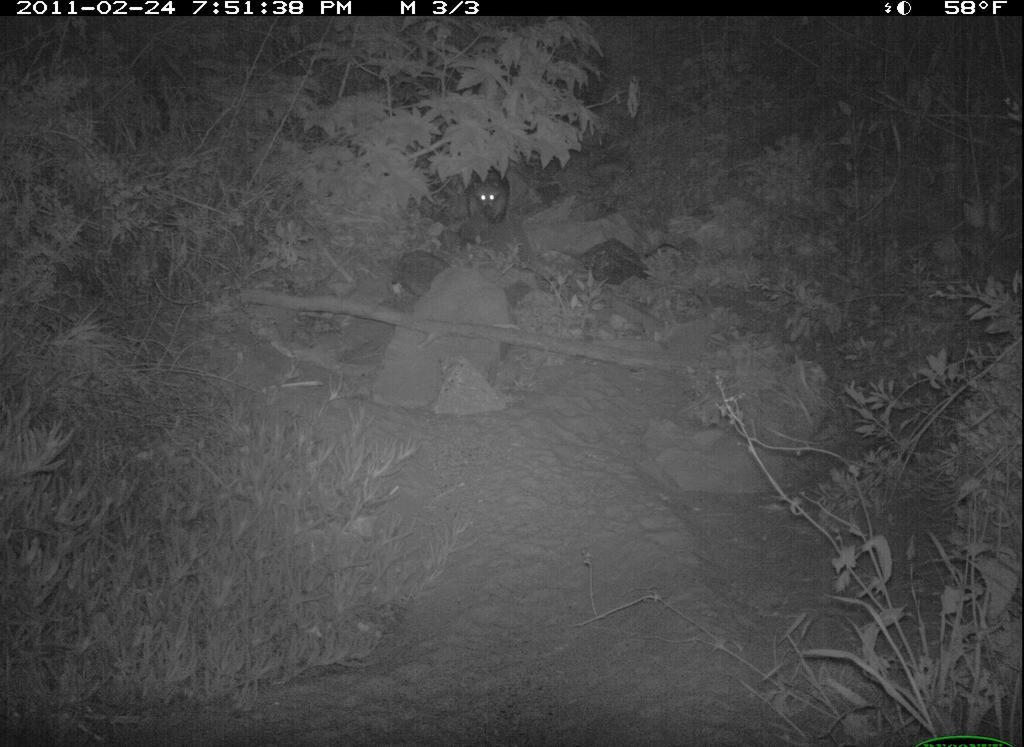raccoon: (457, 139, 525, 231)
